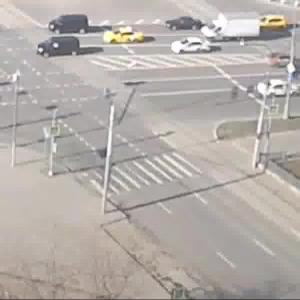car: (205, 17, 258, 46), (38, 37, 82, 57), (48, 16, 94, 35), (104, 28, 147, 47), (259, 78, 300, 96), (254, 13, 287, 33), (173, 38, 215, 53), (164, 16, 202, 32), (269, 53, 300, 72)
